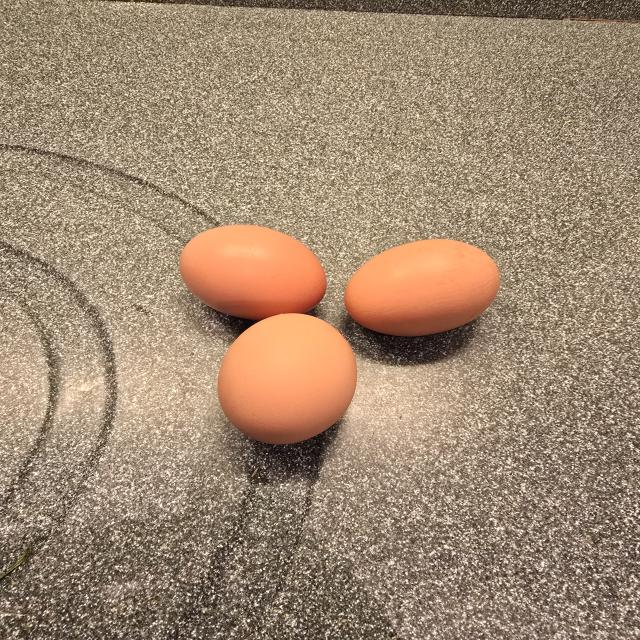Egg: (218, 313, 356, 444), (345, 239, 500, 336), (180, 225, 326, 321)
